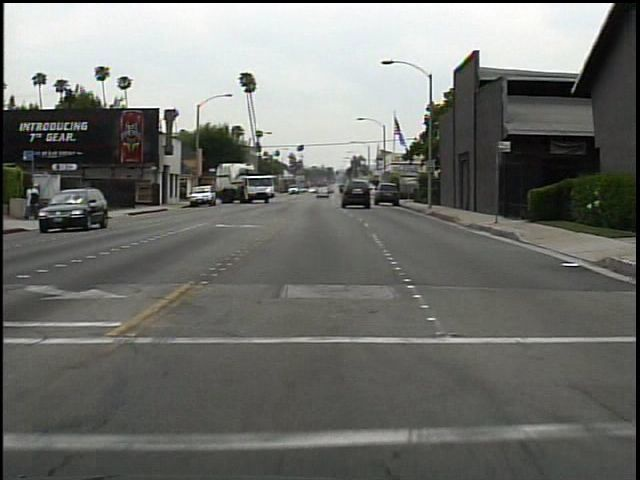person: (23, 178, 46, 223)
